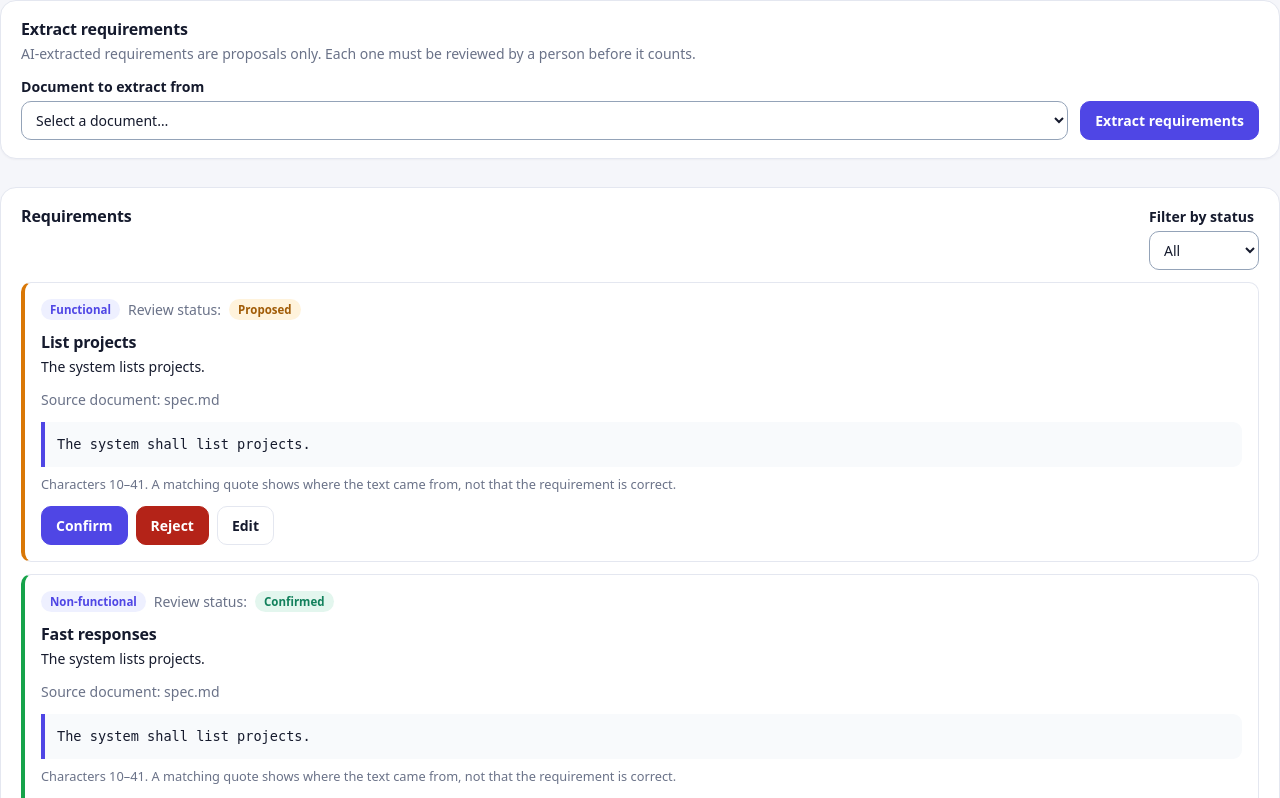
Test: RequirementsSection › filters by status
The width and height of the screenshot is (1280, 798).
Expected: the heading "Fast responses" is shown, x1=41 y1=623 x2=156 y2=645
Select "confirmed" in the dropdown labelled "Filter by status" at (1204,251), box x1=1149 y1=231 x2=1259 y2=270
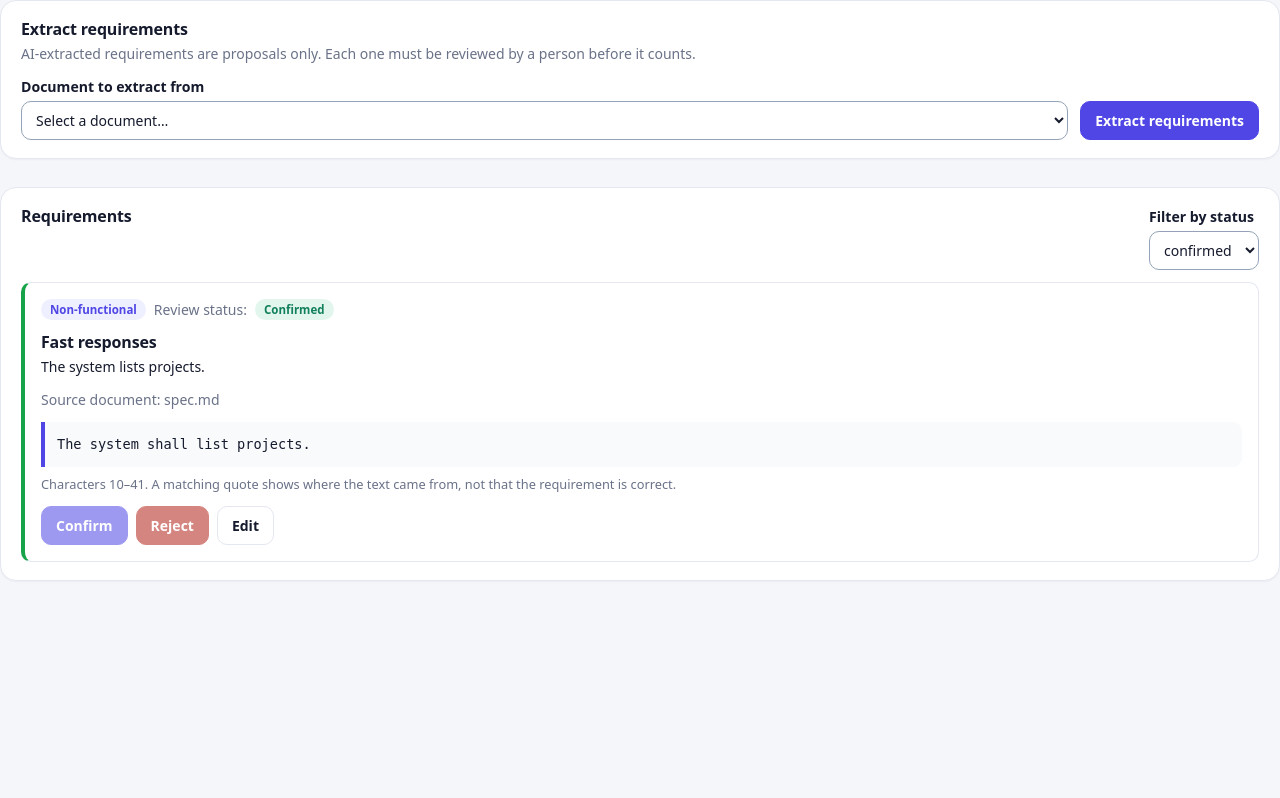
Expected: the heading "Fast responses" is shown, x1=41 y1=332 x2=156 y2=354
Result: the number of list items is 1 at x1=21 y1=282 x2=1259 y2=562
Select "rejected" in the dropdown labelled "Filter by status" at (1204,251), box x1=1149 y1=231 x2=1259 y2=270
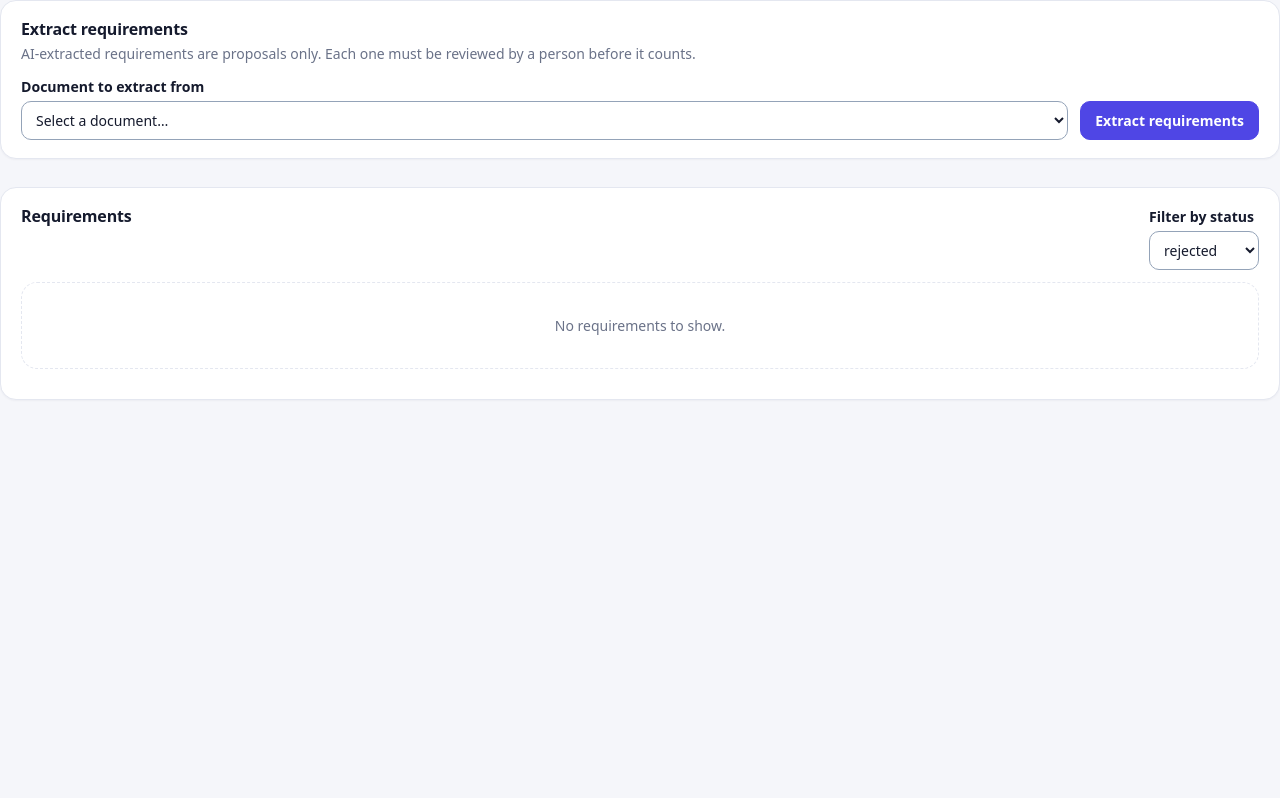
Result: the text "No requirements to show." is shown at x1=21 y1=282 x2=1259 y2=369
